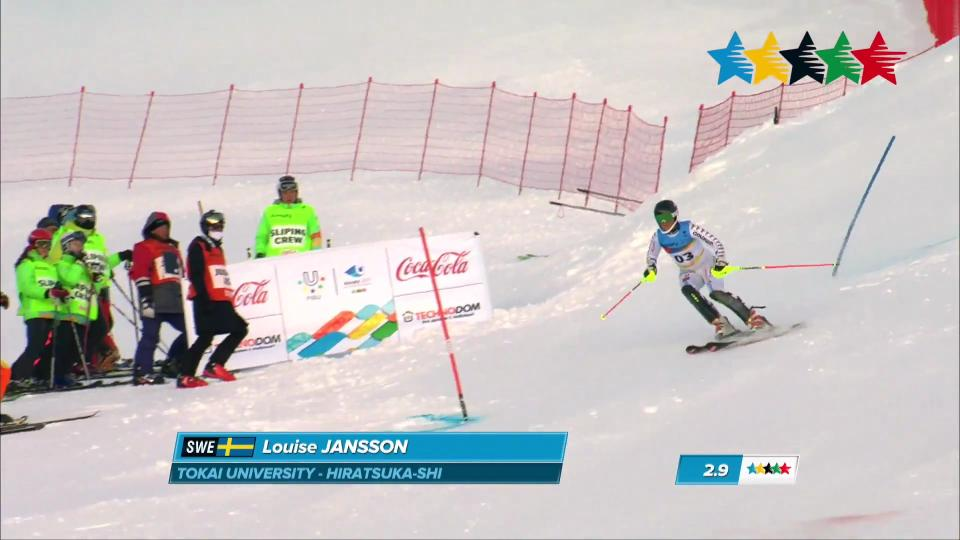gate: (812, 122, 907, 320), (410, 213, 479, 418)
